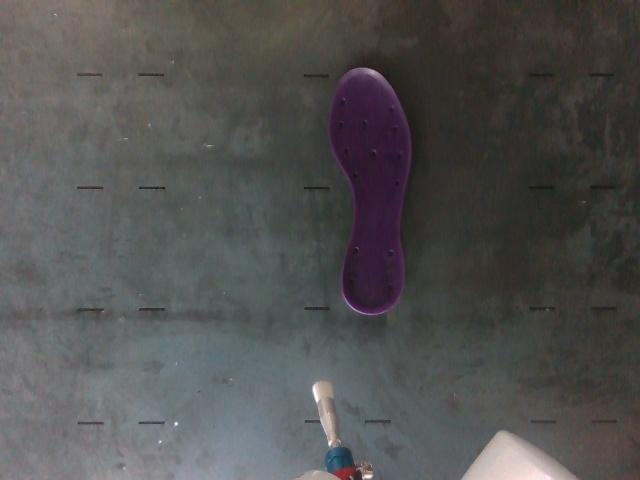shoes: (332, 69, 410, 311)
